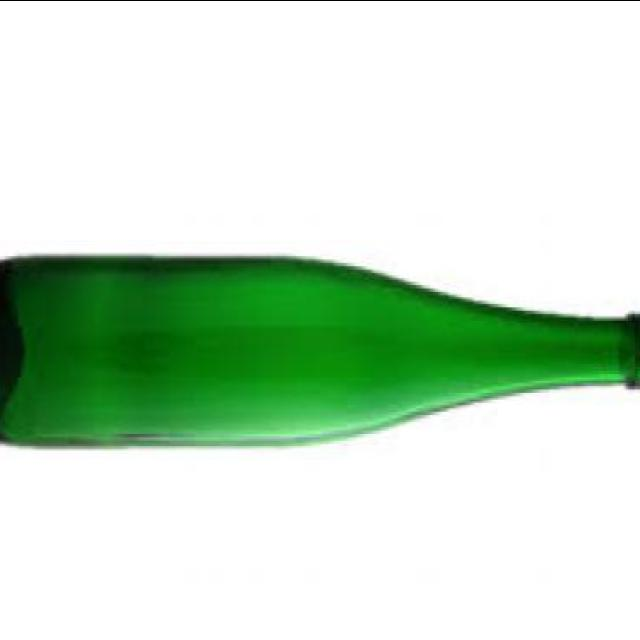kaca: (0, 254, 640, 448)
